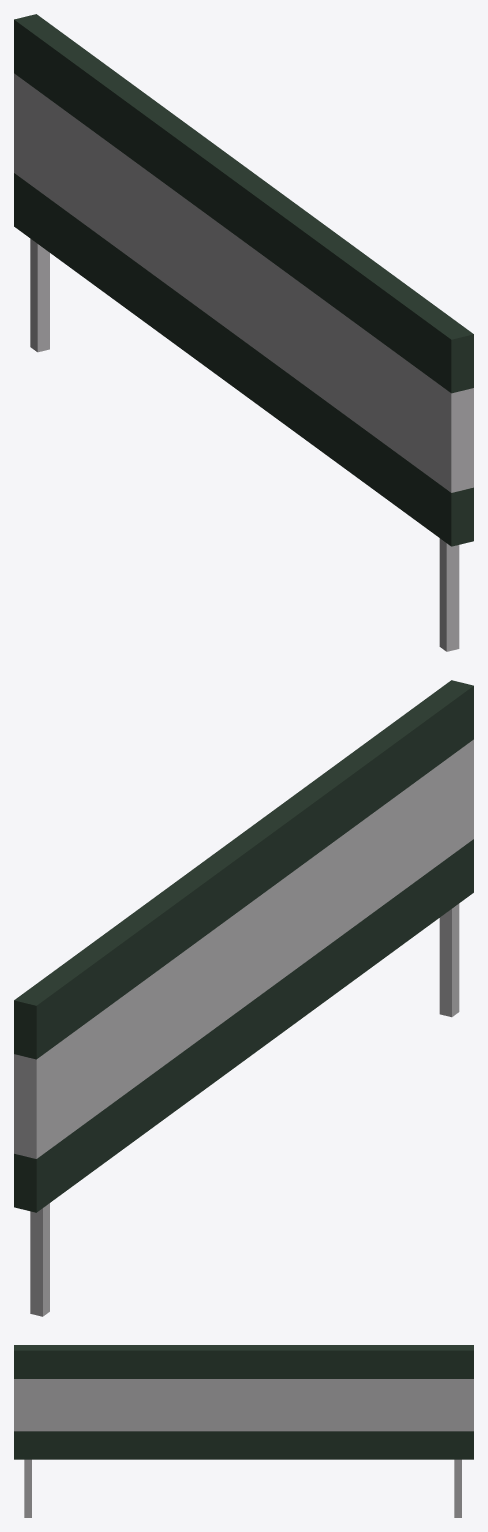
File: SM_shopBoard_02.glb
3 views of the same model, one above another, from view 1: azimuth 30°, elevation 25°; view 2: azimuth 150°, elevation 25°; view 3: azimuth 270°, elevation 25° (orthographic). The views are drawn at different scales.
Parts seen in each view (by area): view 1: SM_shopBoard_02; view 2: SM_shopBoard_02; view 3: SM_shopBoard_02.
Part boxes in pixels (bbox=[...]): SM_shopBoard_02: bbox=[14, 14, 473, 651]; SM_shopBoard_02: bbox=[14, 680, 473, 1316]; SM_shopBoard_02: bbox=[14, 1345, 473, 1517].
Bounding box in the file's own units: 0.0285 × 0.388 × 0.96.
Materials: 1 (1 with a texture image).
